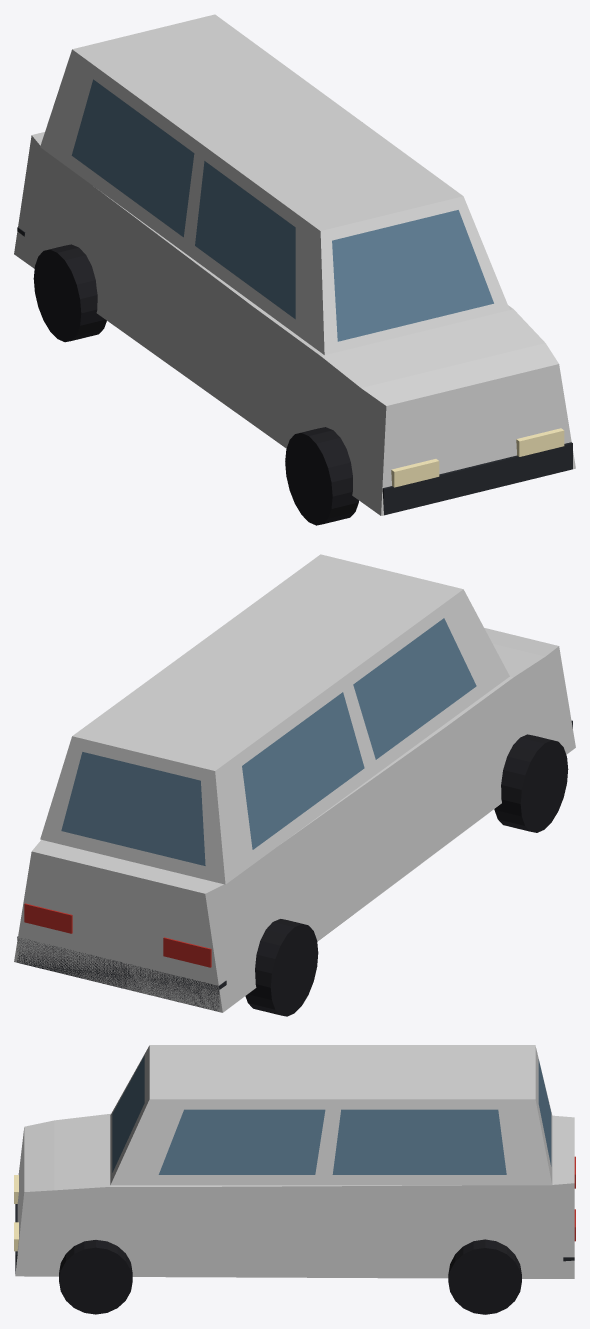
Rendered from estate.glb.
The picture shows the model from 3 angles, top to bottom: view 1: azimuth 30°, elevation 25°; view 2: azimuth 150°, elevation 25°; view 3: azimuth 270°, elevation 25°; orthographic projection. The views are drawn at different scales.
Visible parts, largest first — view 1: body, cabin, glass_screen, glass_side_0_L, glass_side_1_L, wheel_1_L_tyre, wheel_0_L_tyre, bumper_nose, head_L, head_R; view 2: body, cabin, glass_back, glass_side_0_L, glass_side_1_L, wheel_1_L_tyre, wheel_0_L_tyre, bumper_tail, tail_R, tail_L; view 3: body, cabin, glass_side_0_R, glass_side_1_R, wheel_1_R_tyre, wheel_0_R_tyre, glass_screen, glass_back.
Boxes of the visible parts, x1,y1,x2,y2 form: body: (14,132,575,515); cabin: (40,14,509,355); glass_screen: (332,210,493,341); glass_side_0_L: (71,79,194,237); glass_side_1_L: (195,161,295,319); wheel_1_L_tyre: (285,427,358,525); wheel_0_L_tyre: (33,244,106,342); bumper_nose: (382,442,572,515); head_L: (391,459,439,487); head_R: (516,428,564,456); body: (14,628,575,1012); cabin: (40,554,509,884); glass_back: (61,752,205,865); glass_side_0_L: (242,692,364,849); glass_side_1_L: (353,618,476,759); wheel_1_L_tyre: (494,734,568,832); wheel_0_L_tyre: (245,919,318,1016); bumper_tail: (17,936,226,1010); tail_R: (24,903,72,933); tail_L: (163,937,211,967); body: (15,1113,574,1278); cabin: (110,1045,552,1185); glass_side_0_R: (332,1109,506,1174); glass_side_1_R: (158,1109,325,1174); wheel_1_R_tyre: (59,1240,132,1314); wheel_0_R_tyre: (448,1239,521,1314); glass_screen: (112,1055,144,1172); glass_back: (538,1059,551,1166).
Bounding box in the file's own units: 1.9 × 1.95 × 5.02.
